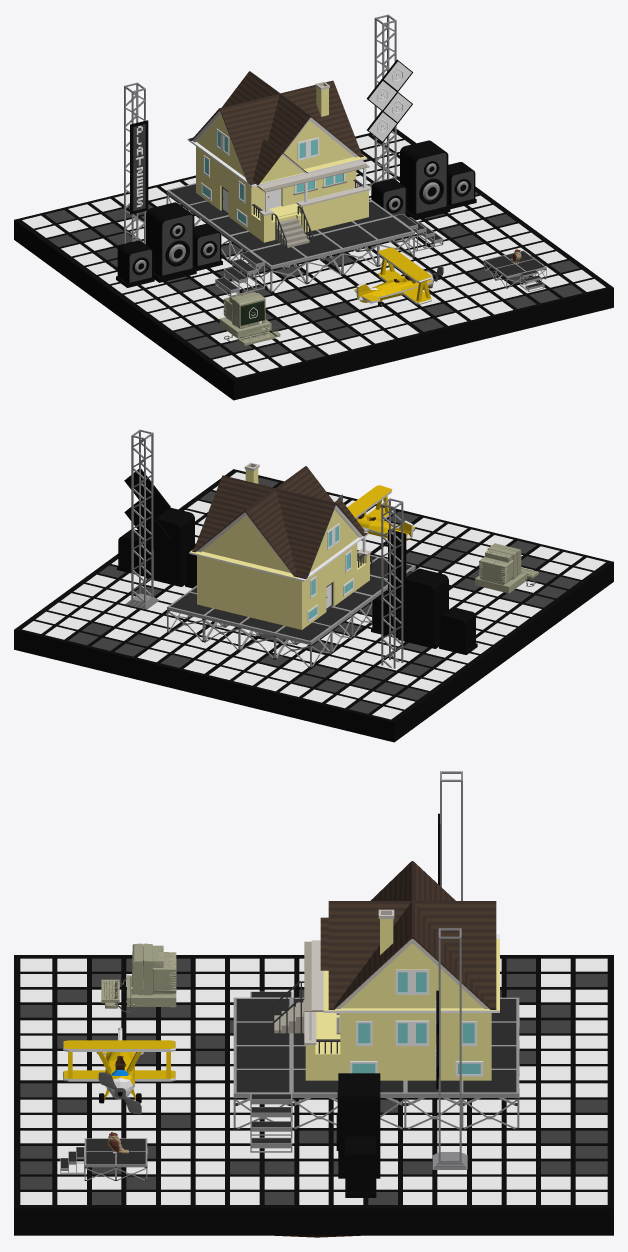
The picture shows the model from 3 angles, top to bottom: view 1: azimuth 30°, elevation 25°; view 2: azimuth 150°, elevation 25°; view 3: azimuth 270°, elevation 25°; orthographic projection. The views are drawn at different scales.
Visible parts, largest first — view 1: Cube.008, Cube.1555, VEHICLES_AIRPLANE, OBJRANDOM_RETRO_PC; view 2: Cube.008, Cube.1555, OBJRANDOM_RETRO_PC, VEHICLES_AIRPLANE; view 3: Cube.008, Cube.1555, VEHICLES_AIRPLANE, OBJRANDOM_RETRO_PC.
Part boxes in pixels (<box>): Cube.008: <box>14,14,613,400</box>; Cube.1555: <box>187,71,371,249</box>; VEHICLES_AIRPLANE: <box>354,247,443,306</box>; OBJRANDOM_RETRO_PC: <box>219,291,280,345</box>; Cube.008: <box>14,429,613,742</box>; Cube.1555: <box>189,462,372,629</box>; OBJRANDOM_RETRO_PC: <box>475,543,538,593</box>; VEHICLES_AIRPLANE: <box>337,485,415,544</box>; Cube.008: <box>14,771,613,1235</box>; Cube.1555: <box>272,861,499,1080</box>; VEHICLES_AIRPLANE: <box>63,1027,175,1114</box>; OBJRANDOM_RETRO_PC: <box>101,943,176,1012</box>.
Size of the model in its own units: 4000 by 2038 by 4000.
47 materials, 1 textured.
